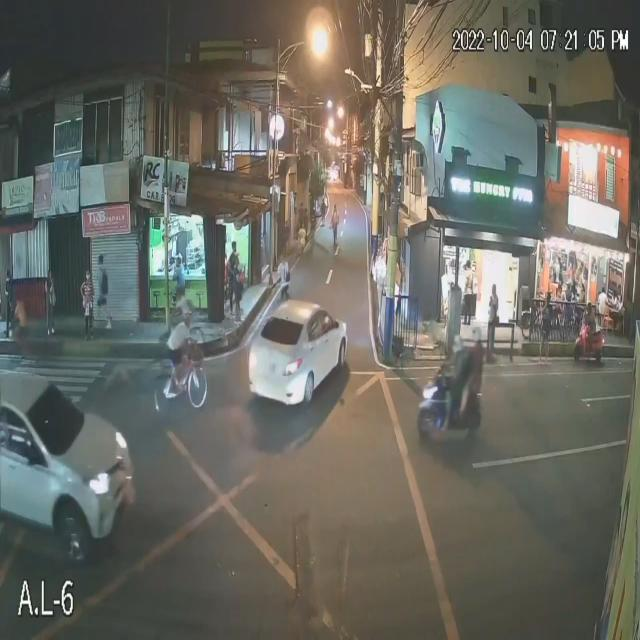Full-Faced: (466, 324, 484, 346), (450, 334, 466, 358)
